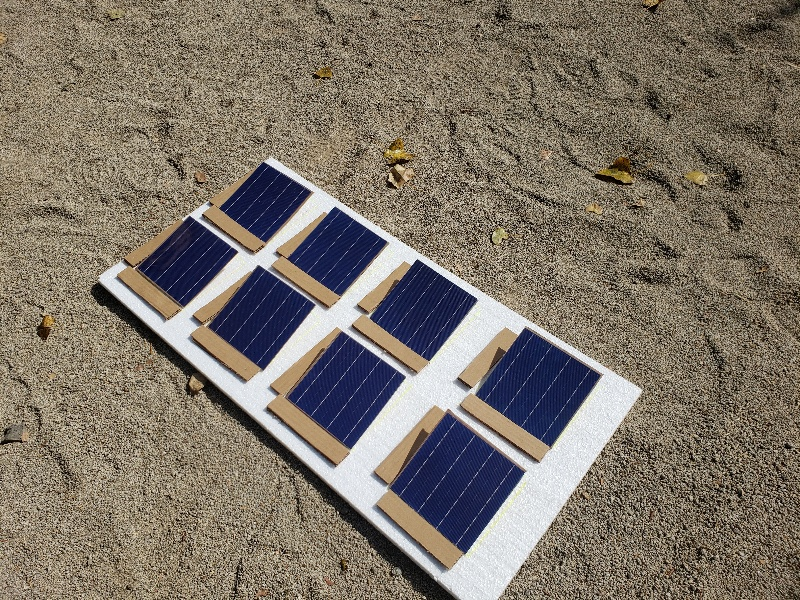clean: (388, 409, 530, 558), (286, 330, 407, 446), (478, 328, 599, 444), (364, 259, 478, 364), (209, 267, 319, 371), (283, 205, 395, 304), (134, 217, 237, 306), (217, 162, 312, 245)
